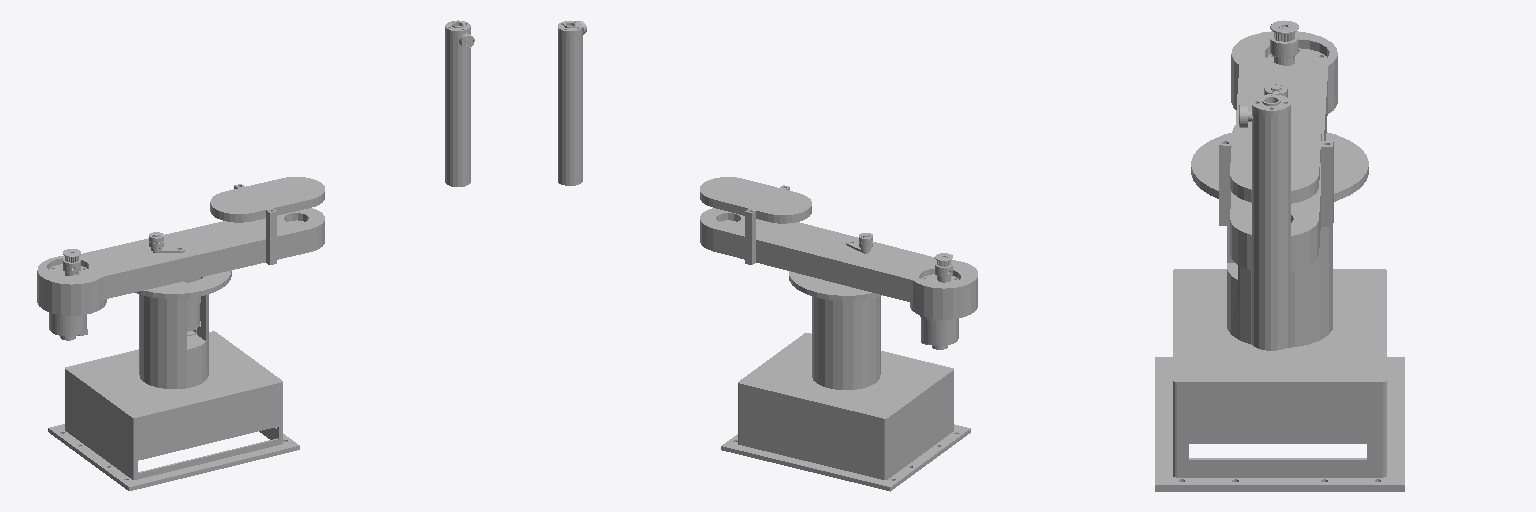
robot.urdf — ENSAMBLAJE_CON_SUBSISTEMA.SLDASM:
<?xml version="1.0"?>
<robot name="ENSAMBLAJE_CON_SUBSISTEMA.SLDASM">

<link name="world"/>
<joint name="world_joint" type="fixed">
  <parent link="world"/>
  <child link="dummy_link"/>
</joint>

<link name="dummy_link"/>
<joint name="dummy_joint" type="fixed">
  <parent link="dummy_link"/>
  <child link="base_link"/>
</joint>

<link name="base_link">
  <inertial>
    <origin xyz="-0.000770382670371994 0.00143226822661284 0.0910949271844939" rpy="0 0 0"/>
    <mass value="0.416986265351324"/>
    <inertia ixx="0.00112282040355264" ixy="-3.62591337044344E-06" ixz="1.64812355122506E-05" iyy="0.00124692401803346" iyz="-4.41763150972466E-06" izz="0.000823406203246697"/>
  </inertial>
  <visual>
    <origin xyz="0 0 0" rpy="0 0 0"/>
    <geometry>
      <mesh filename="package://brazo_solidworks/meshes/base_link.STL"/>
    </geometry>
    <material name="">
      <color rgba="0.752941176470588 0.752941176470588 0.752941176470588 1"/>
    </material>
  </visual>
  <collision>
    <origin xyz="0 0 0" rpy="0 0 0"/>
    <geometry>
      <mesh filename="package://brazo_solidworks/meshes/base_link.STL"/>
    </geometry>
  </collision>
</link>

<gazebo reference="base_link">
  <material>Gazebo/Grey</material>
  <mu1>0.5</mu1>
  <mu2>0.5</mu2>
</gazebo>

<link name="Link_1">
  <inertial>
    <origin xyz="0.00139690540958726 0.00031599034689303 0.0114072742204556" rpy="0 0 0"/>
    <mass value="0.380229179237758"/>
    <inertia ixx="9.53312614220374E-05" ixy="1.78765741739858E-05" ixz="-2.29889711165175E-05" iyy="0.00171420577663468" iyz="-9.1796628561575E-08" izz="0.00177319238592654"/>
  </inertial>
  <visual>
    <origin xyz="0 0 0" rpy="0 0 0"/>
    <geometry>
      <mesh filename="package://brazo_solidworks/meshes/Link_1.STL"/>
    </geometry>
    <material name="">
      <color rgba="0.752941176470588 0.752941176470588 0.752941176470588 1"/>
    </material>
  </visual>
  <collision>
    <origin xyz="0 0 0" rpy="0 0 0"/>
    <geometry>
      <mesh filename="package://brazo_solidworks/meshes/Link_1.STL"/>
    </geometry>
  </collision>
</link>

<gazebo reference="Link_1">
  <material>Gazebo/Grey</material>
  <mu1>0.5</mu1>
  <mu2>0.5</mu2>
</gazebo>

<joint name="Joint_1" type="continuous">
  <origin xyz="0 0 0.163" rpy="0 0 0"/>
  <parent link="base_link"/>
  <child link="Link_1"/>
  <axis xyz="0 0 1"/>
</joint>

<link name="Link_2">
  <inertial>
    <origin xyz="0.117774098936588 -0.00338370002484566 0.0580899698722614" rpy="0 0 0"/>
    <mass value="0.33478899949652"/>
    <inertia ixx="0.000195650698309524" ixy="3.97387138465062E-06" ixz="-1.10963281922699E-06" iyy="0.000671913581221731" iyz="2.02750815323463E-07" izz="0.000622958873729274"/>
  </inertial>
  <visual>
    <origin xyz="0 0 0" rpy="0 0 0"/>
    <geometry>
      <mesh filename="package://brazo_solidworks/meshes/Link_2.STL"/>
    </geometry>
    <material name="">
      <color rgba="0.752941176470588 0.752941176470588 0.752941176470588 1"/>
    </material>
  </visual>
  <collision>
    <origin xyz="0 0 0" rpy="0 0 0"/>
    <geometry>
      <mesh filename="package://brazo_solidworks/meshes/Link_2.STL"/>
    </geometry>
  </collision>
</link>

<gazebo reference="Link_2">
  <material>Gazebo/Grey</material>
  <mu1>0.5</mu1>
  <mu2>0.5</mu2>
</gazebo>

<joint name="Joint_2" type="continuous">
  <origin xyz="0.11996 -0.0030923 0.022" rpy="0 0 0"/>
  <parent link="Link_1"/>
  <child link="Link_2"/>
  <axis xyz="0 0 1"/>
</joint>

<link name="Link_3">
  <inertial>
    <origin xyz="-2.59658025014708E-06 -0.000247391116179871 0.0751661308177088" rpy="0 0 0"/>
    <mass value="0.0456348220099351"/>
    <inertia ixx="7.83744208712695E-05" ixy="4.57697558476353E-11" ixz="8.95709991008764E-20" iyy="7.83787811384427E-05" iyz="-2.92447850915684E-20" izz="3.26570050607789E-06"/>
  </inertial>
  <visual>
    <origin xyz="0 0 0" rpy="0 0 0"/>
    <geometry>
      <mesh filename="package://brazo_solidworks/meshes/Link_3.STL"/>
    </geometry>
    <material name="">
      <color rgba="0.752941176470588 0.752941176470588 0.752941176470588 1"/>
    </material>
  </visual>
  <collision>
    <origin xyz="0 0 0" rpy="0 0 0"/>
    <geometry>
      <mesh filename="package://brazo_solidworks/meshes/Link_3.STL"/>
    </geometry>
  </collision>
</link>

<gazebo reference="Link_3">
  <material>Gazebo/Grey</material>
  <mu1>0.5</mu1>
  <mu2>0.5</mu2>
</gazebo>

<joint name="Joint_3" type="prismatic">
  <origin xyz="0.15999 -0.0016792 -0.0019747" rpy="0 0 0"/>
  <parent link="Link_2"/>
  <child link="Link_3"/>
  <axis xyz="0 0 -1"/>
  <limit lower="0" upper="0.105" effort="50" velocity="0.1"/>
</joint>

<ros2_control name="brazo_r4_system" type="system">
  <hardware>
    <plugin>gz_ros2_control/GazeboSimSystem</plugin>
    <param name="position_proportional_gain">200.0</param>
  </hardware>
  <joint name="Joint_1">
    <command_interface name="position"/>
    <state_interface name="position"/>
    <state_interface name="velocity"/>
    <state_interface name="effort"/>
  </joint>
  <joint name="Joint_2">
    <command_interface name="position"/>
    <state_interface name="position"/>
    <state_interface name="velocity"/>
    <state_interface name="effort"/>
  </joint>
  <joint name="Joint_3">
    <command_interface name="velocity">
      <limits enable="false"/>
    </command_interface>
    <state_interface name="position"/>
    <state_interface name="velocity"/>
    <state_interface name="effort"/>
  </joint>
</ros2_control>

<gazebo>
  <plugin filename="gz_ros2_control-system" name="gz_ros2_control::GazeboSimROS2ControlPlugin">
    <parameters>/home/burher/ros2_ws/install/brazo_solidworks/share/brazo_solidworks/config/controllers.yaml</parameters>
  </plugin>
</gazebo>

</robot>

--- Render facts (derived) ---
The picture shows the robot from 3 angles, left to right: view 1: azimuth 30°, elevation 25°; view 2: azimuth 150°, elevation 25°; view 3: azimuth 270°, elevation 25°; orthographic projection.
Robot: ENSAMBLAJE_CON_SUBSISTEMA.SLDASM — 6 links, 5 joints (2 continuous, 1 prismatic, 2 fixed); root link world; default pose: every joint at zero.
Links seen in each view (by area): view 1: base_link, Link_1, Link_3; view 2: base_link, Link_1, Link_3; view 3: base_link, Link_1, Link_3.
Link boxes in pixels (box(x1,y1,x2,y2)): base_link: box(48, 270, 299, 490); Link_1: box(37, 177, 324, 340); Link_3: box(445, 20, 474, 186); base_link: box(721, 271, 970, 491); Link_1: box(700, 177, 977, 349); Link_3: box(558, 21, 586, 185); base_link: box(1155, 132, 1404, 491); Link_1: box(1219, 20, 1337, 271); Link_3: box(1239, 94, 1290, 350).
Bounding box of the posed robot: 0.4207 × 0.14 × 0.333 m (x, y, z).
3 mesh visuals loaded from 4 distinct referenced files (3 binary STL); not drawn: 1 (reference not matched to a file when rendering).
